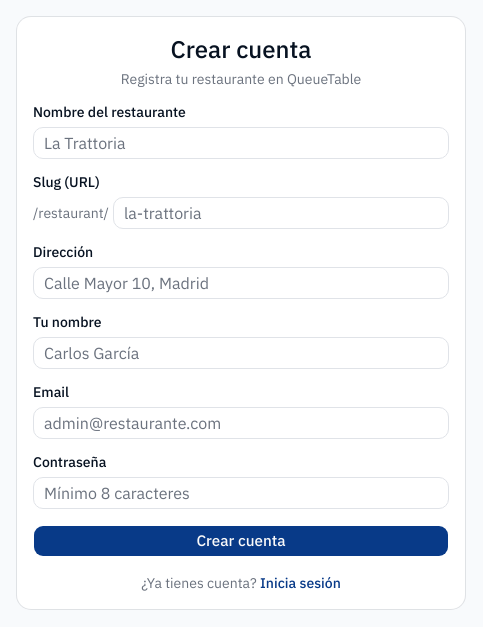
RegisterPage › auto-generates slug from restaurant name
Type "La Trattoria Española" into the field labelled "Nombre del restaurante".
click(241, 143); type("La Trattoria Española")  # box [33,127,449,159]
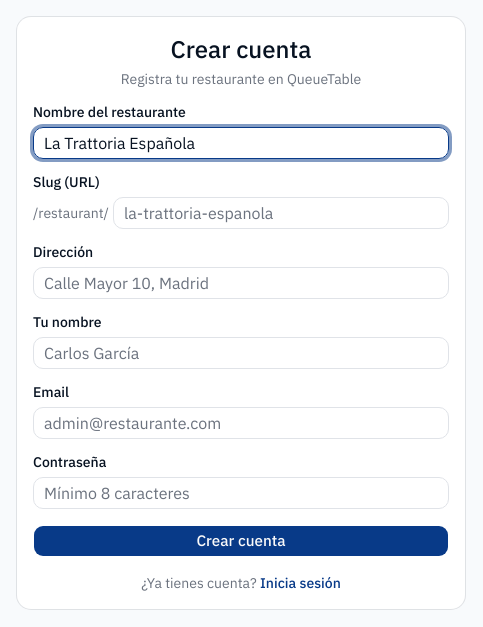
Check: the field labelled "Slug (URL)" holds "la-trattoria-espanola", box [113,197,449,229]
